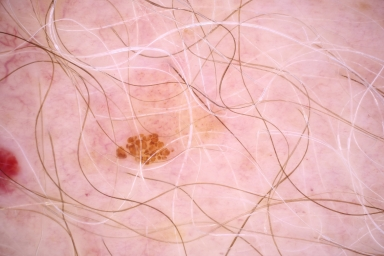melanoma: (113, 131, 177, 165)
